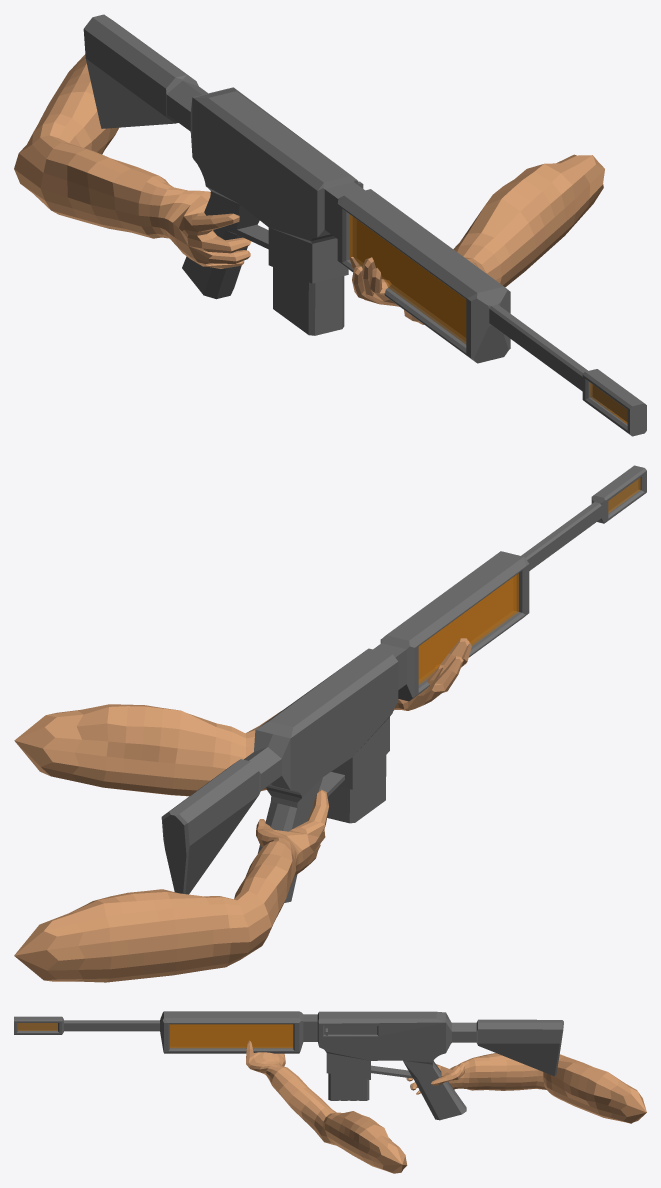
Rendered from PlasmaGunV4.fbx.
3 renders of one model, top to bottom at view 1: azimuth 30°, elevation 25°; view 2: azimuth 150°, elevation 25°; view 3: azimuth 270°, elevation 25°, orthographic. The views are drawn at different scales.
Parts seen in each view (by area): view 1: GUN BASE, Cube, Cube.001, GUN BASE.003; view 2: GUN BASE, Cube, Cube.001, GUN BASE.003; view 3: GUN BASE, Cube, Cube.001, GUN BASE.003, GUN BASE.002.
Boxes of the visible parts, x1,y1,x2,y2 form: GUN BASE: [83, 14, 646, 436]; Cube: [14, 54, 250, 268]; Cube.001: [349, 154, 604, 324]; GUN BASE.003: [350, 214, 627, 424]; GUN BASE: [161, 465, 646, 902]; Cube: [14, 789, 328, 982]; Cube.001: [14, 638, 471, 796]; GUN BASE.003: [418, 477, 640, 684]; GUN BASE: [14, 1011, 563, 1120]; Cube: [406, 1053, 646, 1123]; Cube.001: [246, 1040, 407, 1173]; GUN BASE.003: [18, 1023, 293, 1048]; GUN BASE.002: [324, 1026, 377, 1035].
Size of the model in its own units: 214 by 96.96 by 539.
